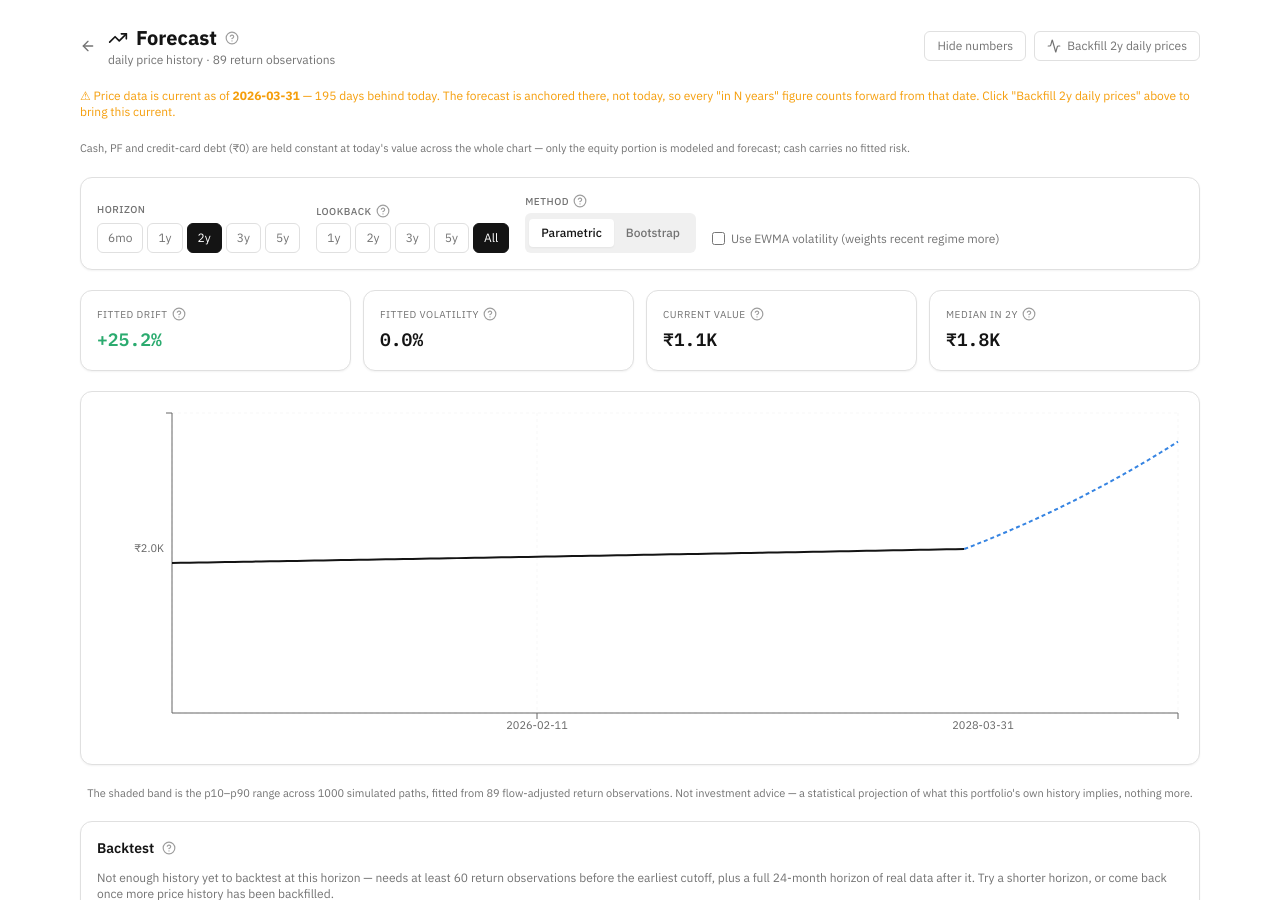
Test: Forecast page › masks the current-value figure when privacy mode is toggled on
The width and height of the screenshot is (1280, 900).
Expected: the text "Current Value" is shown, x1=663 y1=306 x2=764 y2=322
Expected: the text "₹1.1K" is shown, x1=663 y1=328 x2=717 y2=350
Click the button "Hide numbers".
click(975, 46)  # box x1=924 y1=31 x2=1026 y2=61
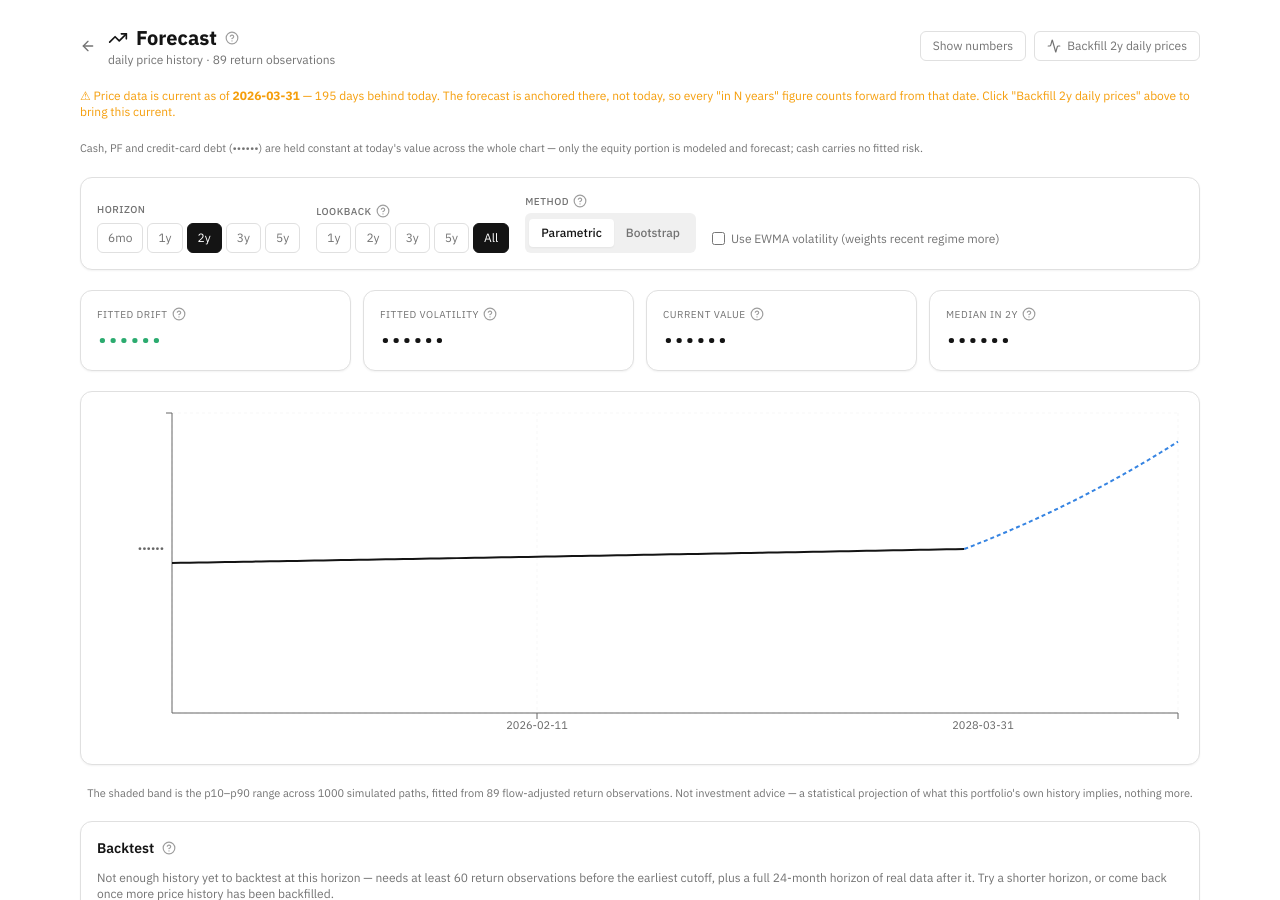
Now the button "Show numbers" is shown, box x1=920 y1=31 x2=1026 y2=61
Now the text "••••••" below "Current Value" is shown, box x1=663 y1=328 x2=728 y2=350
Now the text "₹" is gone
